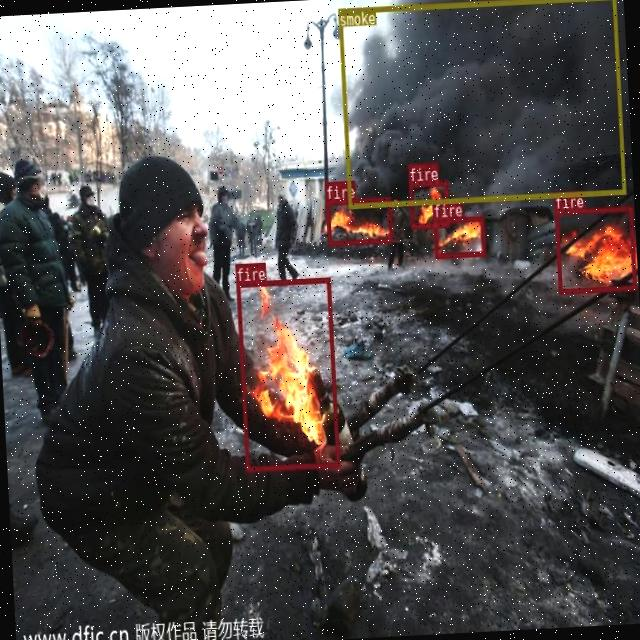fire: (236, 276, 340, 472), (554, 206, 636, 293), (325, 197, 393, 245), (433, 215, 485, 258), (408, 180, 448, 228)
smoke: (337, 0, 625, 207)
